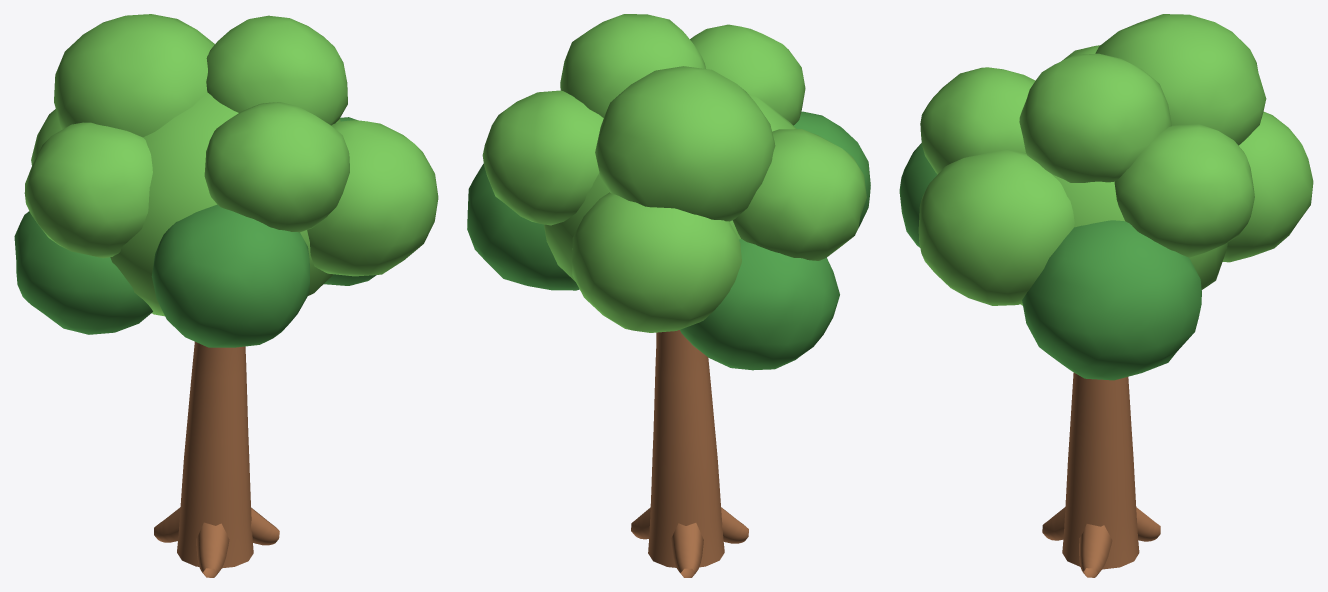
Rendered from prop_tree_round.glb.
3 renders of one model, left to right at view 1: azimuth 30°, elevation 25°; view 2: azimuth 150°, elevation 25°; view 3: azimuth 270°, elevation 25°, orthographic.
Parts seen in each view (by area): view 1: prop_tree_round; view 2: prop_tree_round; view 3: prop_tree_round.
Boxes of the visible parts, box(x1,y1,x2,y2) form: prop_tree_round: box(14, 14, 438, 577); prop_tree_round: box(467, 14, 870, 577); prop_tree_round: box(899, 14, 1313, 577).
Size of the model in its own units: 2.74 by 3.56 by 2.57.
